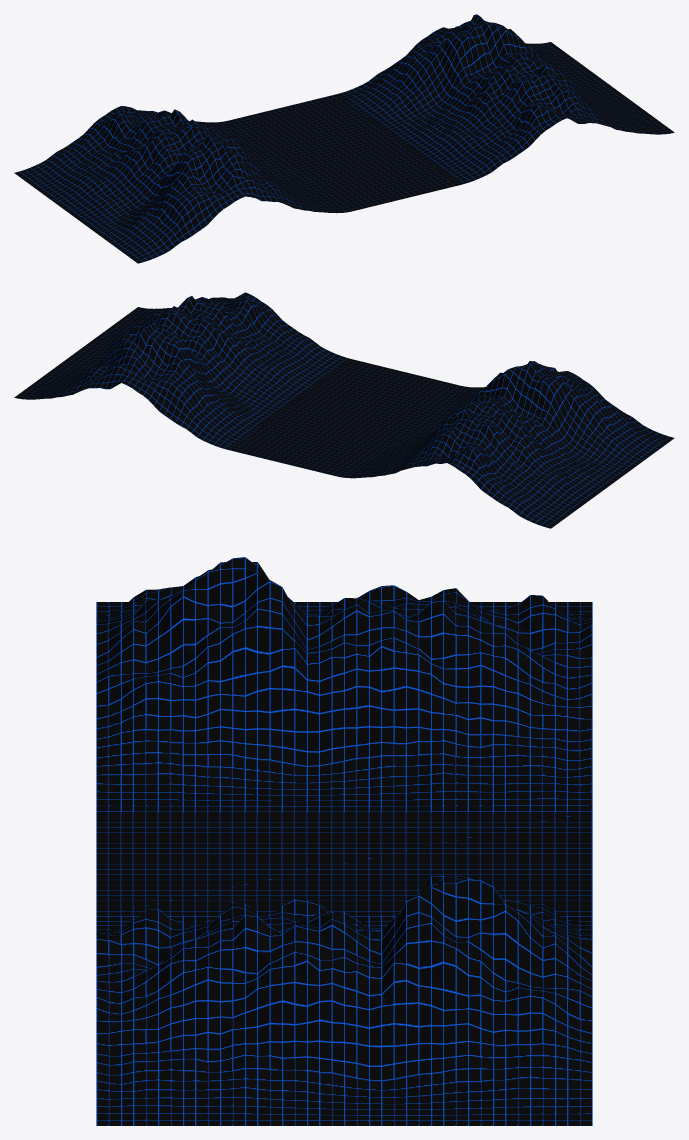
Rendered from bgmountains.dae.
The picture shows the model from 3 angles, top to bottom: view 1: azimuth 30°, elevation 25°; view 2: azimuth 150°, elevation 25°; view 3: azimuth 270°, elevation 25°; orthographic projection. The views are drawn at different scales.
Parts seen in each view (by area): view 1: Landscape; view 2: Landscape; view 3: Landscape.
Part boxes in pixels (<box>): Landscape: <box>14,14,674,263</box>; Landscape: <box>14,292,674,528</box>; Landscape: <box>96,557,592,1125</box>.
Size of the model in its own units: 100 by 40 by 13.32.
